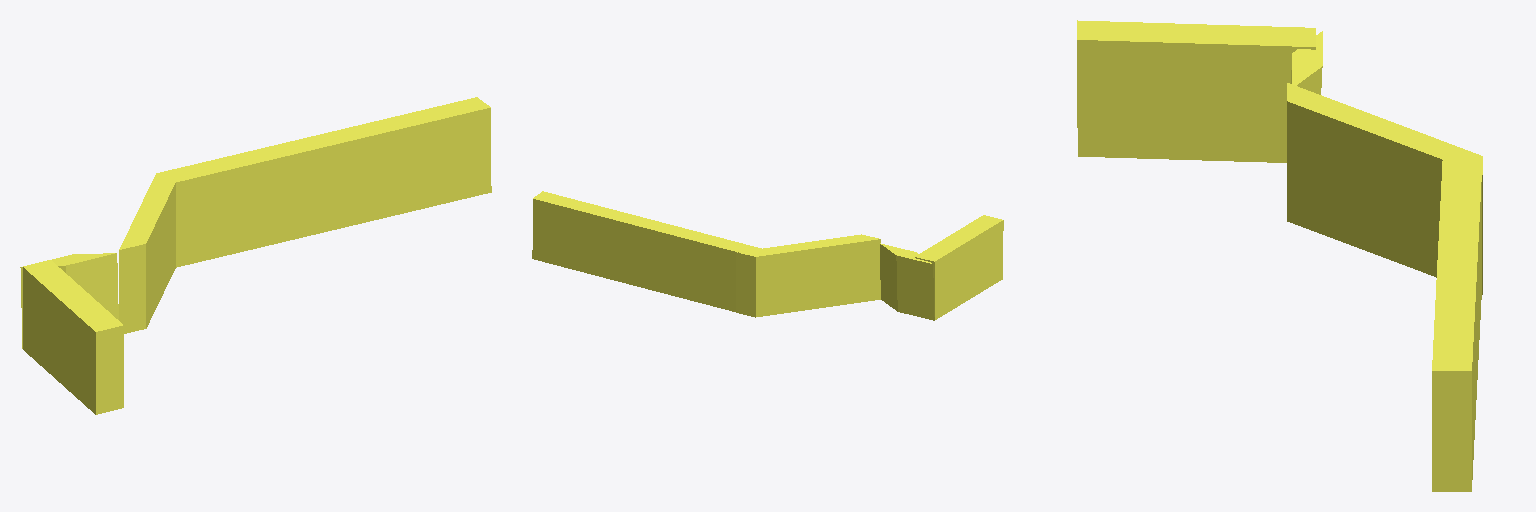
The robot description file, URDF, robot "env.urdf":
<?xml version="0.0" ?>
<robot name="env.urdf">
  <link name="baseLink">
    <contact>
      <lateral_friction value="1.0"/>
      <rolling_friction value="0.0"/>
      <contact_cfm value="0.0"/>
      <contact_erp value="1.0"/>
    </contact>
    <inertial>
      <origin rpy="0 0 0" xyz="0.0 0.02 0.0"/>
       <mass value="0"/>
       <inertia ixx="1" ixy="0" ixz="0" iyy="1" iyz="0" izz="1"/>
    </inertial>
    <visual>
      <origin rpy="0 0 0" xyz="0 0 0"/>
      <geometry>
        <mesh filename="wall3.obj" scale="1 1 1"/>
      </geometry>
       <material name="yellow">
        <color rgba="1 1 0.4 1"/>
      </material>
    </visual>
    <collision>
      <origin rpy="0 0 0" xyz="0 0 0"/>
      <geometry>
	 	<mesh filename="wall3.obj" scale="1 1 1"/>
      </geometry>
    </collision>
  </link>
</robot>

--- Render facts (derived) ---
The picture shows the robot from 3 angles, left to right: view 1: azimuth 30°, elevation 25°; view 2: azimuth 150°, elevation 25°; view 3: azimuth 270°, elevation 25°; orthographic projection.
Robot: env.urdf — 1 links, 0 joints (none); root link baseLink; default pose: all joints at 0.
Links seen in each view (by area): view 1: baseLink; view 2: baseLink; view 3: baseLink.
Link boxes in pixels (x1,y1,x2,y2): baseLink: (20, 97, 491, 414); baseLink: (532, 191, 1003, 320); baseLink: (1077, 20, 1482, 491).
Bounding box of the posed robot: 3.71 × 1.77 × 0.6001 m (x, y, z).
1 mesh visuals loaded from 1 distinct referenced files (1 OBJ).